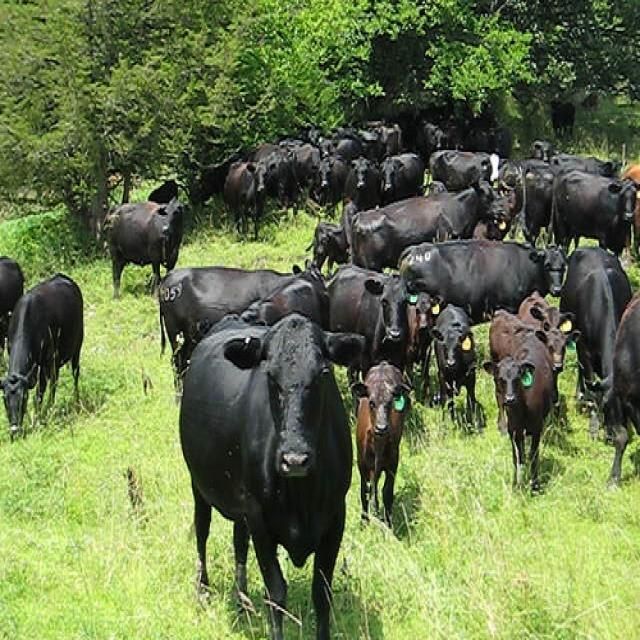cow: (0, 112, 637, 493), (173, 312, 361, 630), (394, 236, 567, 323), (0, 272, 82, 441), (479, 326, 559, 493), (351, 180, 495, 272), (328, 263, 421, 374), (349, 358, 406, 529), (105, 195, 182, 295), (246, 142, 303, 208), (222, 159, 264, 236), (428, 149, 501, 190), (342, 154, 380, 210), (315, 152, 348, 198)
